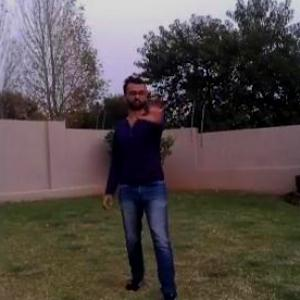follow_hand: (136, 84, 173, 127)
